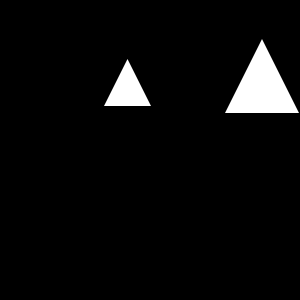triangle: (225, 39, 299, 113), (104, 59, 151, 106)
